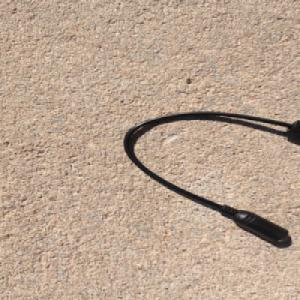Wire: (122, 110, 300, 243)
